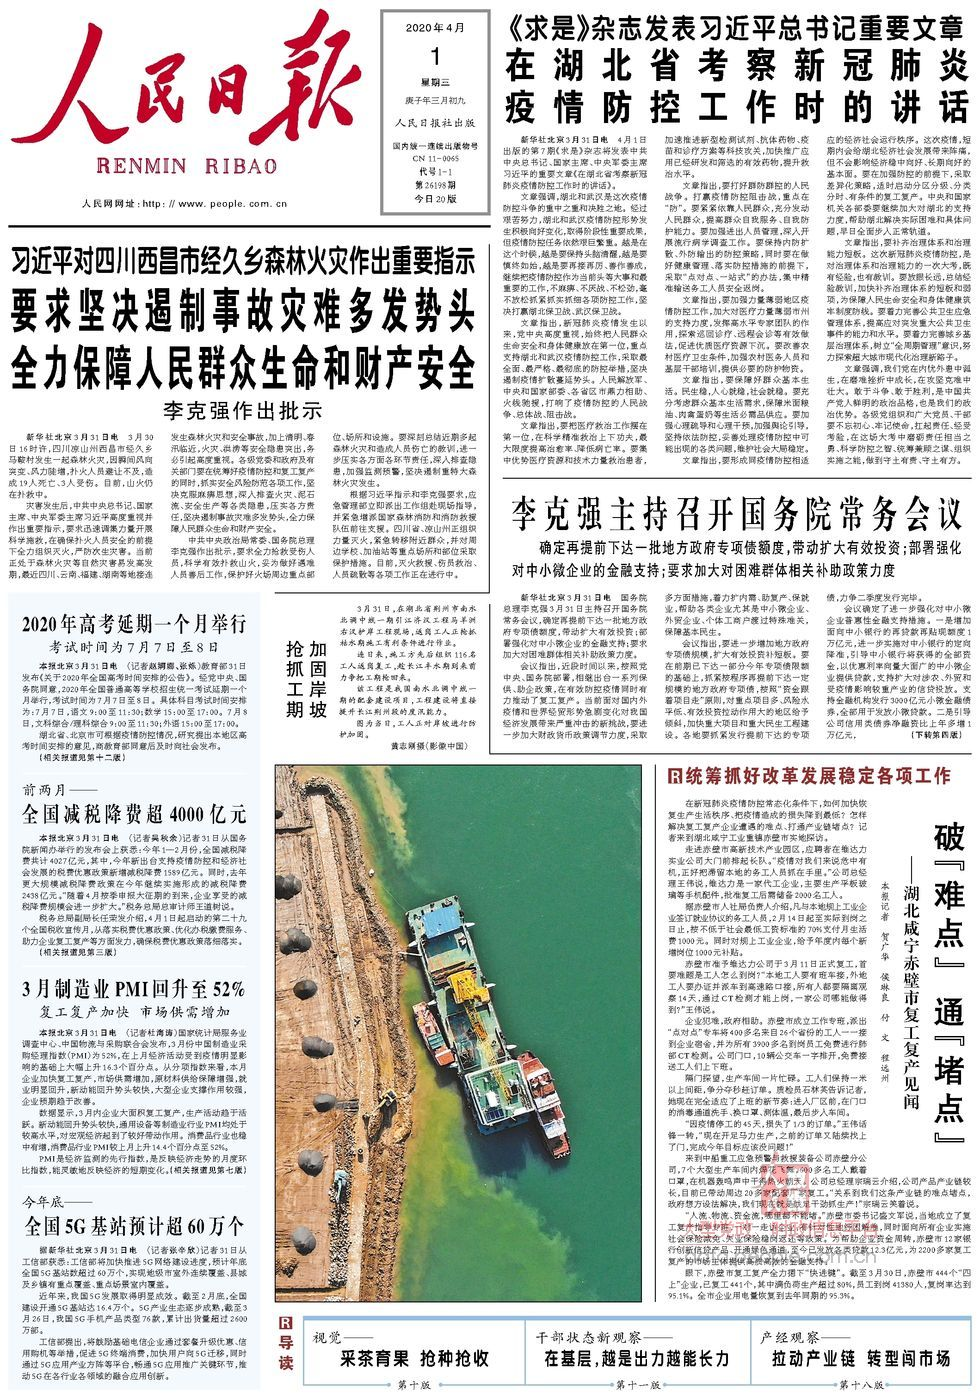pic: (270, 762, 647, 1304)
